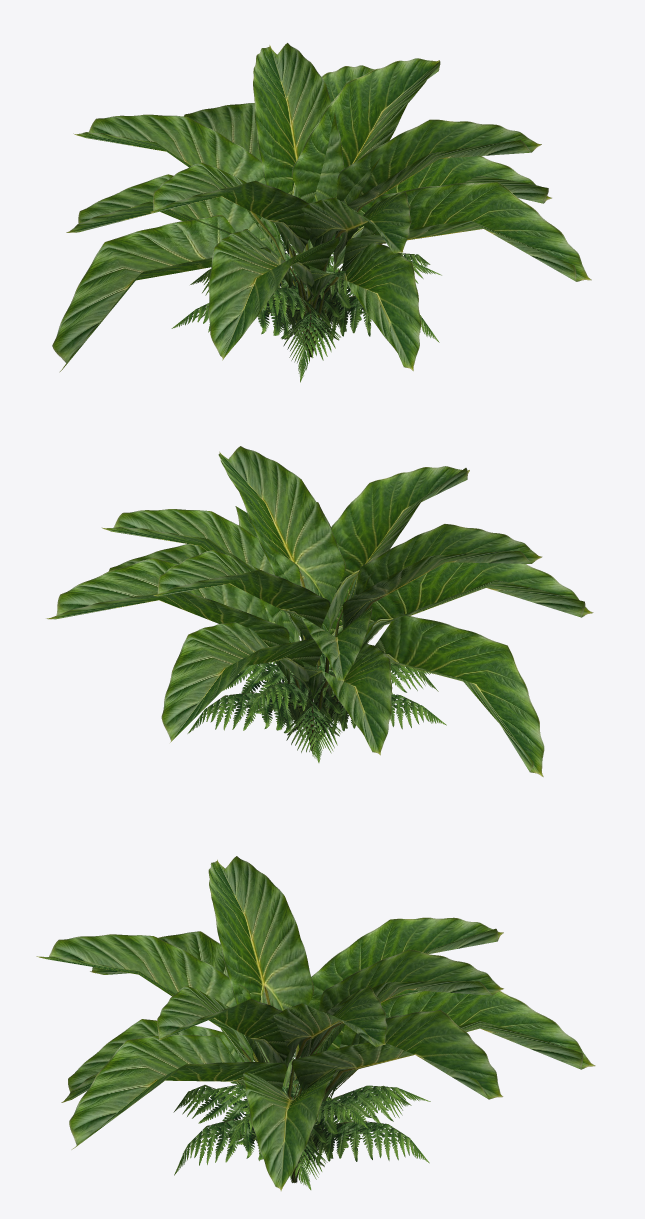
Rendered from ground_v1.glb.
3 renders of one model, top to bottom at view 1: azimuth 30°, elevation 25°; view 2: azimuth 150°, elevation 25°; view 3: azimuth 270°, elevation 25°, orthographic. The views are drawn at different scales.
Visible parts, largest first — view 1: ELEPHANTEAR_A, FERN_A; view 2: ELEPHANTEAR_A, FERN_A; view 3: ELEPHANTEAR_A, FERN_A.
Boxes of the visible parts, x1,y1,x2,y2 form: ELEPHANTEAR_A: (52,43,591,372); FERN_A: (171,235,441,382); ELEPHANTEAR_A: (46,446,593,777); FERN_A: (187,632,446,762); ELEPHANTEAR_A: (36,856,595,1191); FERN_A: (173,1050,430,1189).
Bounding box in the file's own units: 1.53 × 0.6609 × 1.48.
2 materials, 2 textured.
